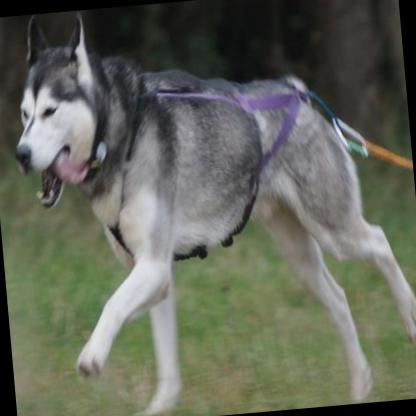malamute: (2, 0, 416, 416)
